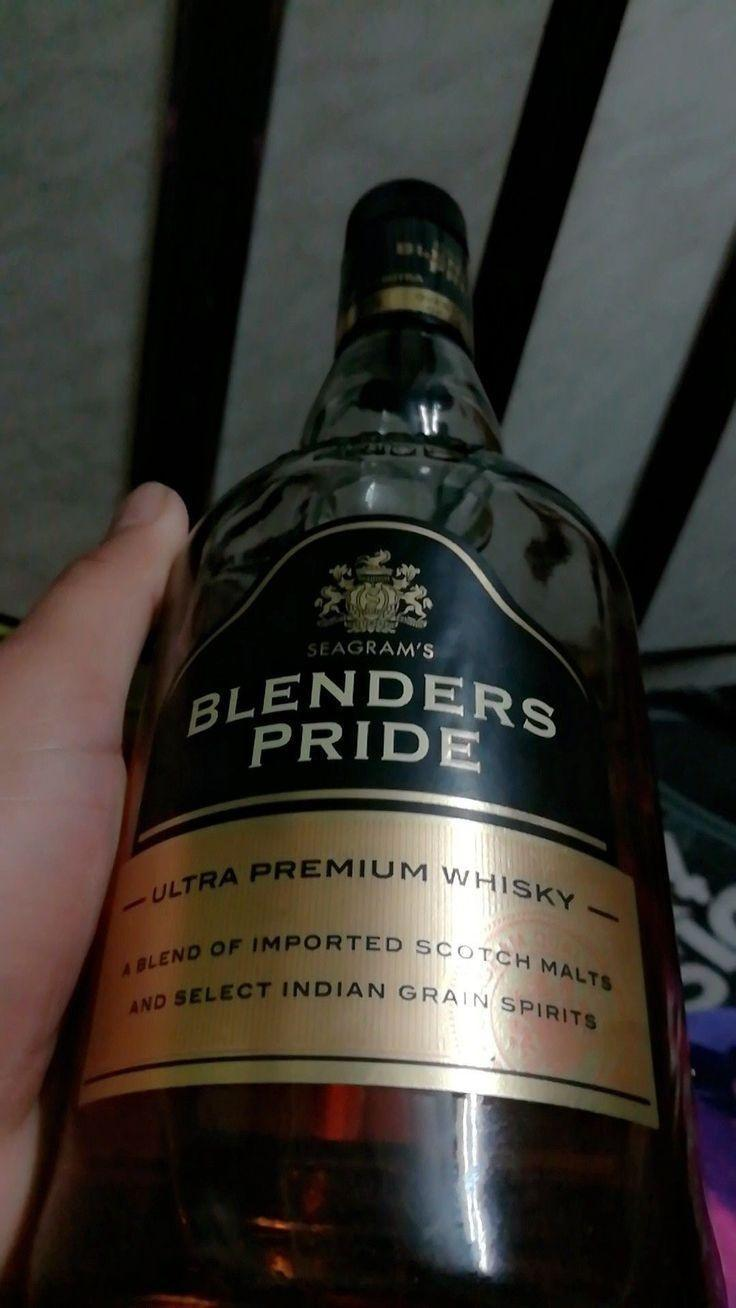bottle-glass: (11, 170, 736, 1308)
